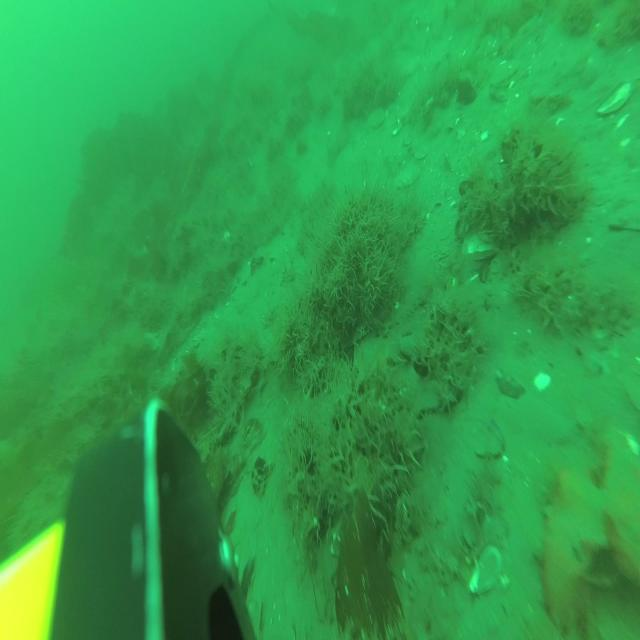scallop: (470, 547, 502, 594), (598, 81, 636, 113), (490, 59, 519, 84), (398, 164, 422, 184), (369, 107, 383, 127)
